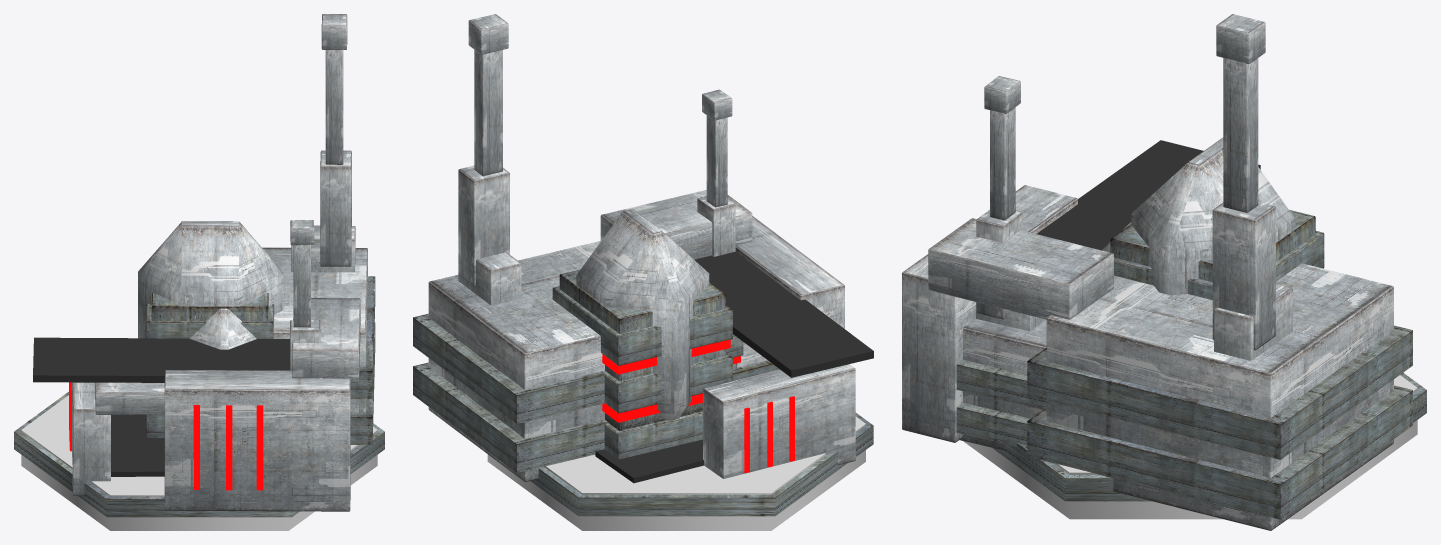
The model's file is armory02.fbx.
3 views of the same model, side by side, from view 1: azimuth 30°, elevation 25°; view 2: azimuth 150°, elevation 25°; view 3: azimuth 270°, elevation 25° (orthographic). The views are drawn at different scales.
Parts seen in each view (by area): view 1: armoary_2; view 2: armoary_2; view 3: armoary_2.
Boxes of the visible parts, box(x1,y1,x2,y2) form: armoary_2: box(14, 14, 384, 530); armoary_2: box(413, 14, 873, 530); armoary_2: box(902, 14, 1426, 530).
Bounding box in the file's own units: 531 × 513 × 478.
6 materials, 3 textured.
